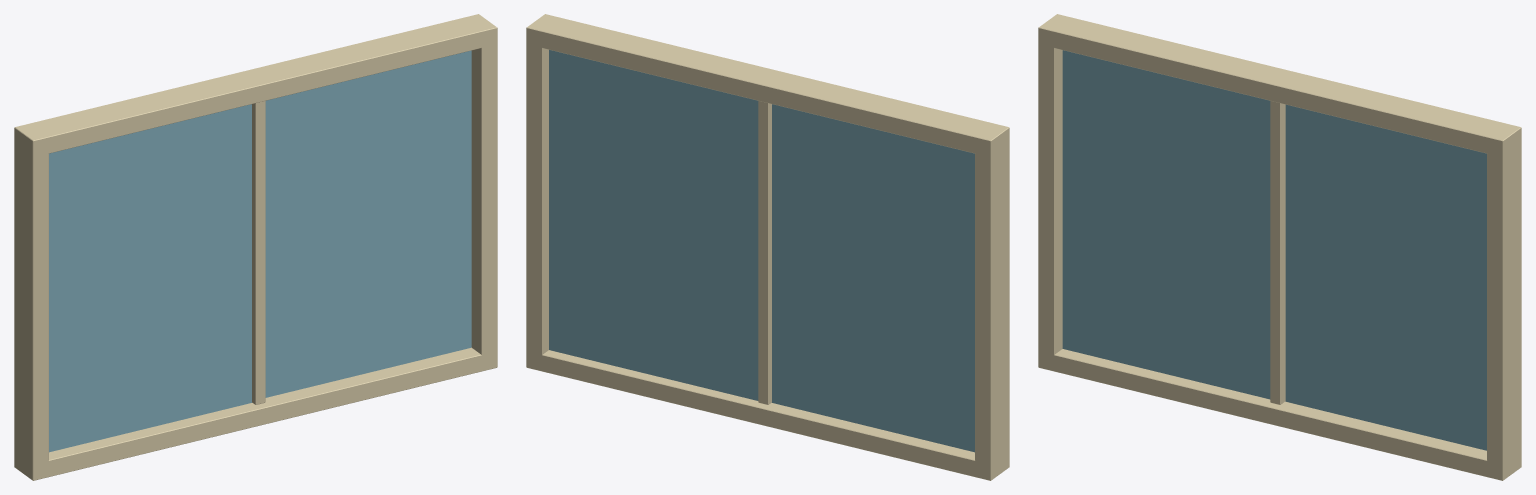
The model's file is b21_window_paired_2m.glb.
The picture shows the model from 3 angles, left to right: view 1: azimuth 30°, elevation 25°; view 2: azimuth 150°, elevation 25°; view 3: azimuth 330°, elevation 25°; orthographic projection.
Parts seen in each view (by area): view 1: b21_window_paired_2m; view 2: b21_window_paired_2m; view 3: b21_window_paired_2m.
Part boxes in pixels (x1,y1,x2,y2): b21_window_paired_2m: (14, 14, 497, 480); b21_window_paired_2m: (526, 14, 1009, 480); b21_window_paired_2m: (1038, 14, 1521, 480).
Size of the model in its own units: 2 by 1.4 by 0.14.
